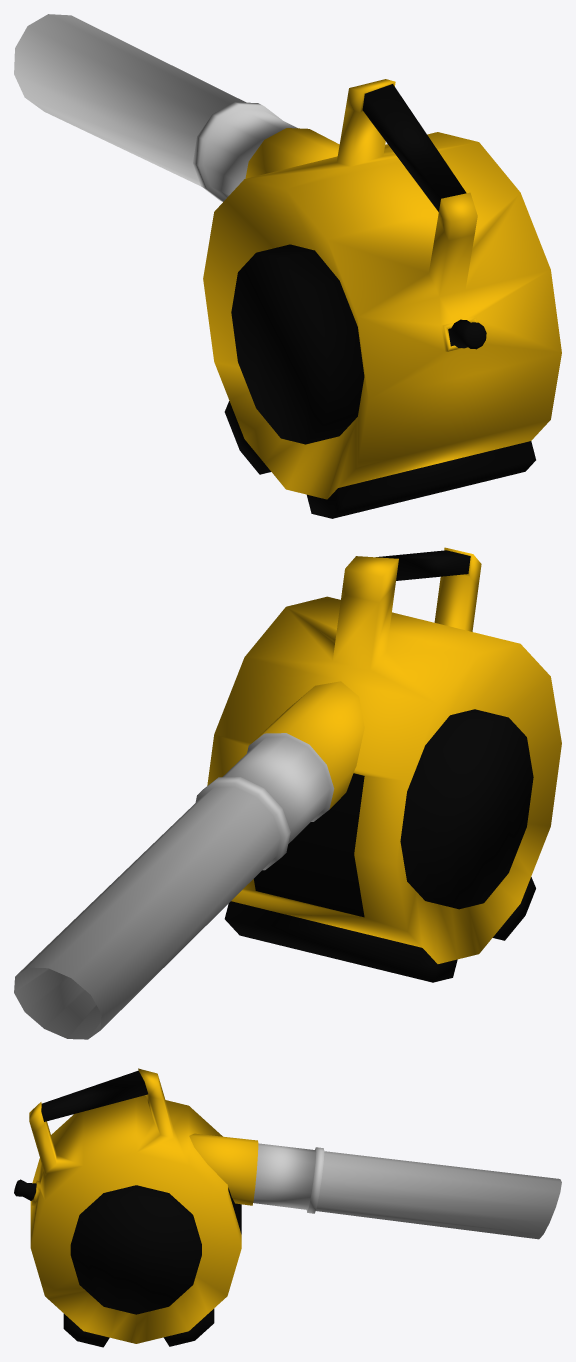
Rendered from item-leafblower.glb.
The picture shows the model from 3 angles, top to bottom: view 1: azimuth 30°, elevation 25°; view 2: azimuth 150°, elevation 25°; view 3: azimuth 270°, elevation 25°; orthographic projection. The views are drawn at different scales.
Bounding box in the file's own units: 1.42 × 2.55 × 5.2.
